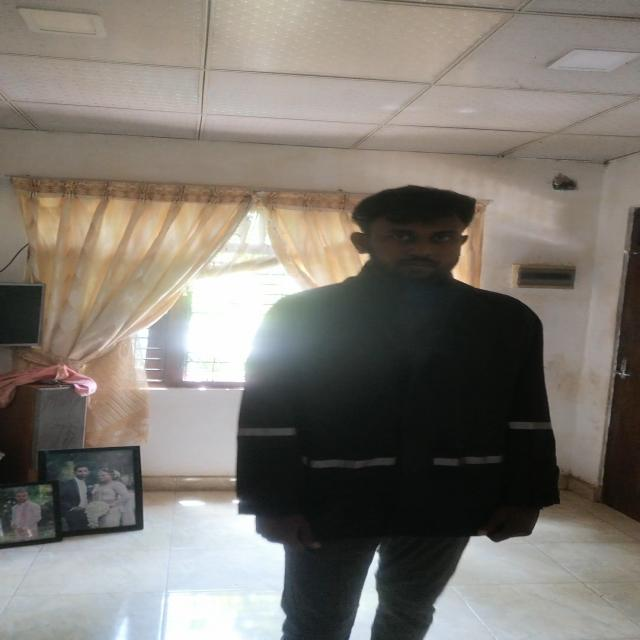Jacket_Wearer: (231, 270, 569, 552)
Person: (227, 172, 566, 640)
